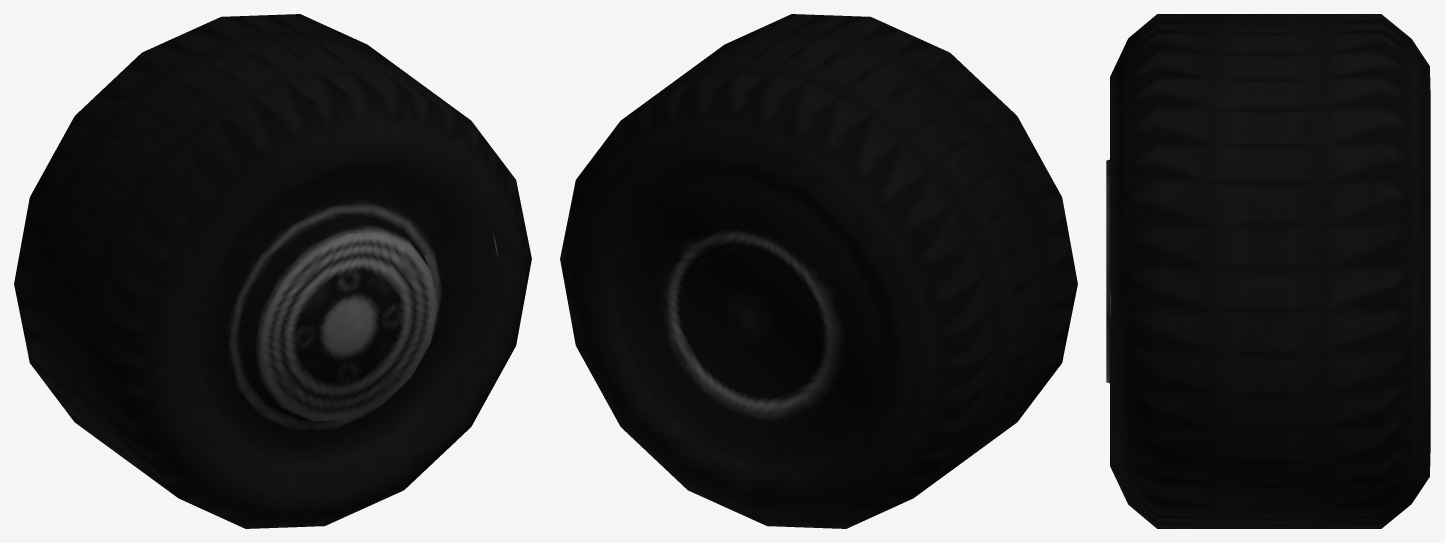
The model's file is SM_AIV_Wheel.fbx.
3 views of the same model, side by side, from view 1: azimuth 30°, elevation 25°; view 2: azimuth 150°, elevation 25°; view 3: azimuth 270°, elevation 25° (orthographic). The views are drawn at different scales.
Visible parts, largest first — view 1: LowPolyWheels.002; view 2: LowPolyWheels.002; view 3: LowPolyWheels.002.
Part boxes in pixels (box(x1,y1,x2,y2)): LowPolyWheels.002: box(14, 14, 531, 528); LowPolyWheels.002: box(560, 14, 1077, 528); LowPolyWheels.002: box(1106, 14, 1430, 528).
Size of the model in its own units: 137 by 86.44 by 137.
1 material, 1 textured.
